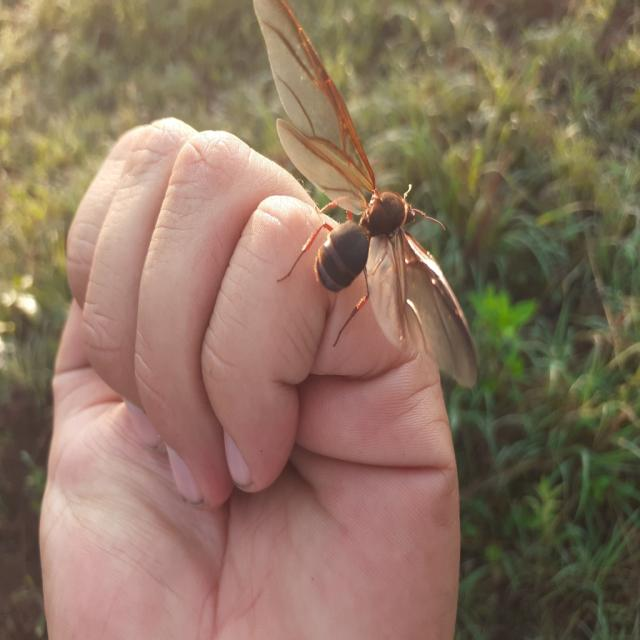Alive-Female-Alate: (252, 0, 478, 389)
